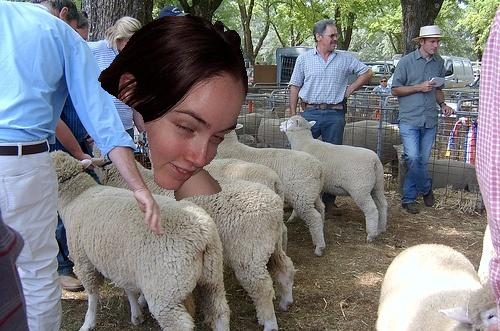tampered: (99, 17, 248, 201)
